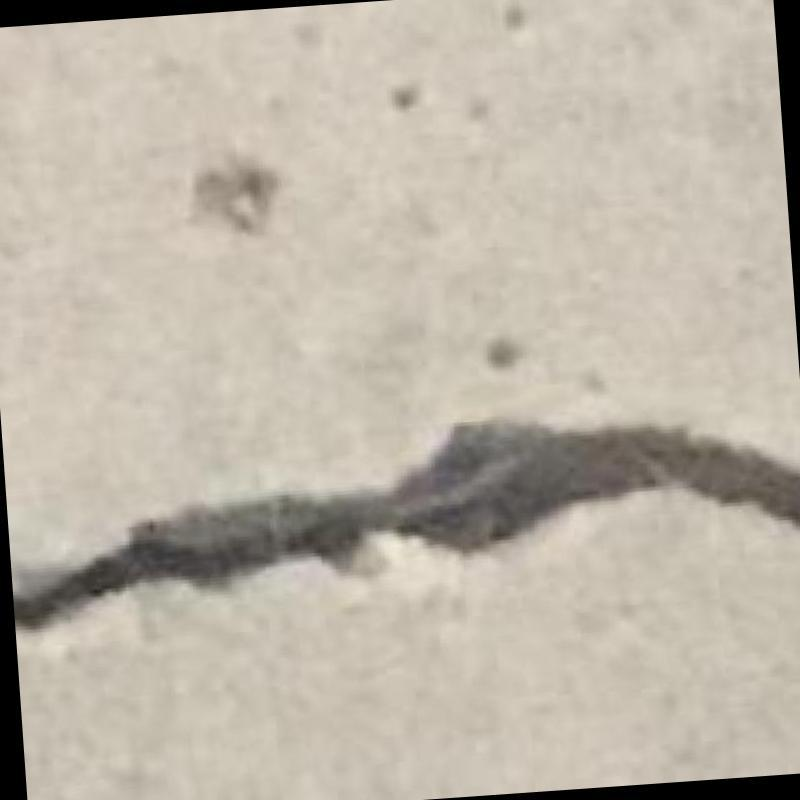crack: (12, 421, 800, 628)
